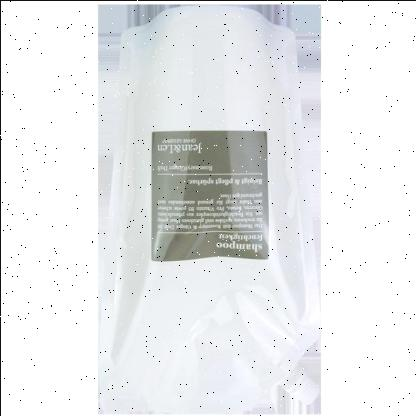Others: (95, 0, 323, 414)
